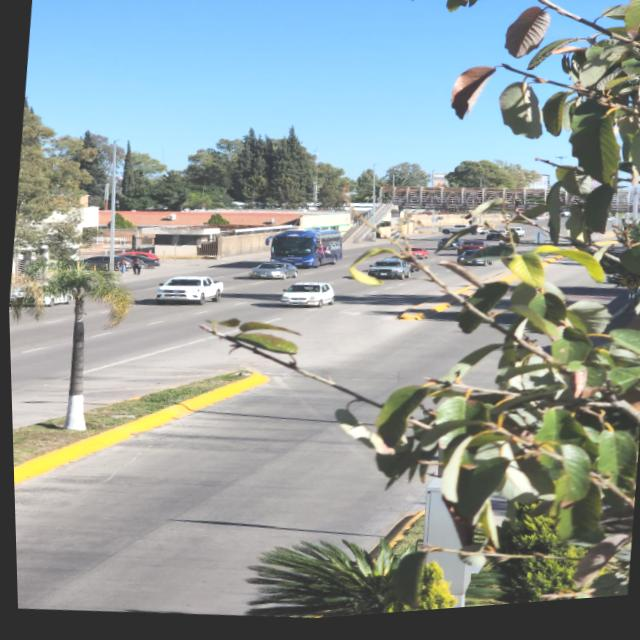Auto: (154, 273, 222, 312), (277, 281, 336, 316), (363, 257, 411, 289), (246, 262, 296, 286), (115, 250, 159, 276)
